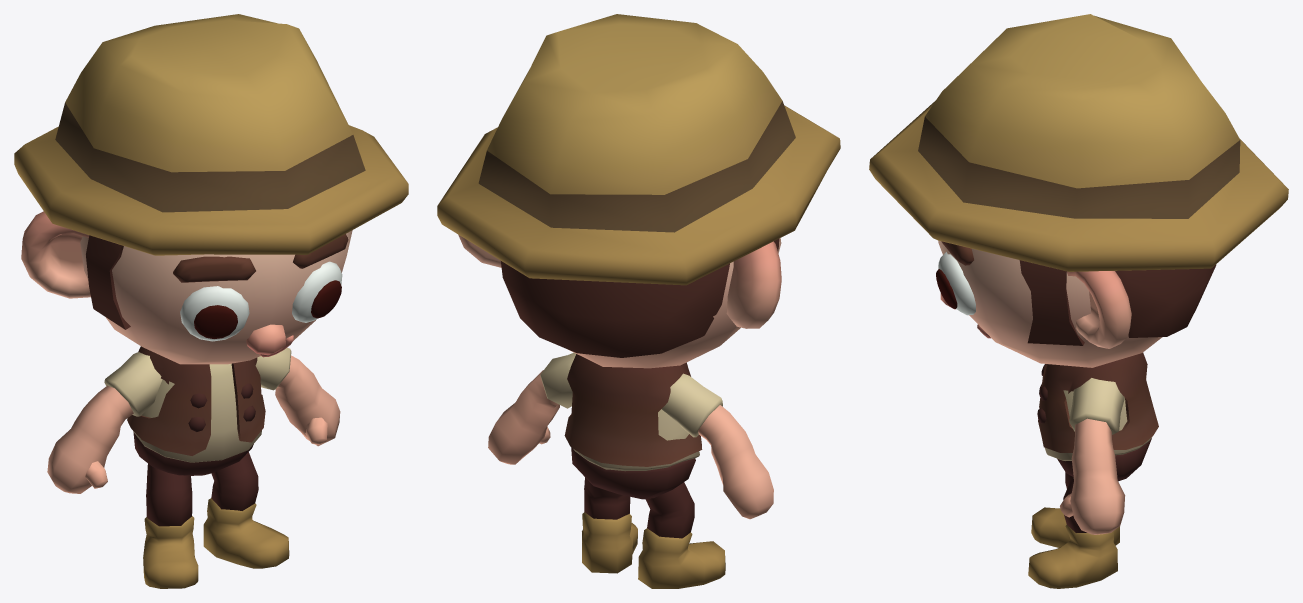
File: Farmer_male.fbx
3 views of the same model, side by side, from view 1: azimuth 30°, elevation 25°; view 2: azimuth 150°, elevation 25°; view 3: azimuth 270°, elevation 25° (orthographic).
Parts seen in each view (by area): view 1: farmer_male_Head, farmer_male, farmer_male_Hand_R, farmer_male_Hand_L; view 2: farmer_male_Head, farmer_male, farmer_male_Hand_R, farmer_male_Hand_L; view 3: farmer_male_Head, farmer_male, farmer_male_Hand_L.
Part boxes in pixels (<box>): farmer_male_Head: <box>14,14,408,364</box>; farmer_male: <box>127,346,289,588</box>; farmer_male_Hand_R: <box>47,352,162,493</box>; farmer_male_Hand_L: <box>255,347,340,446</box>; farmer_male_Head: <box>437,14,840,368</box>; farmer_male: <box>564,354,725,588</box>; farmer_male_Hand_R: <box>662,373,773,519</box>; farmer_male_Hand_L: <box>488,352,575,464</box>; farmer_male_Head: <box>869,14,1288,367</box>; farmer_male: <box>1028,352,1158,588</box>; farmer_male_Hand_L: <box>1060,378,1125,534</box>.
Size of the model in its own units: 67.91 by 103 by 76.27.
